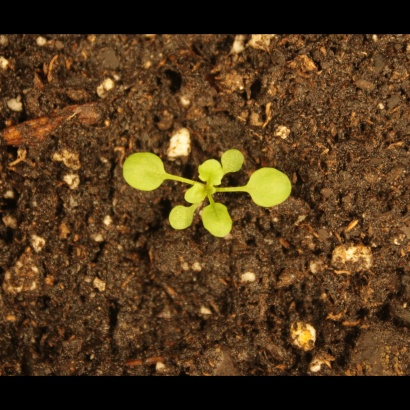leaf: (120, 147, 170, 195), (247, 166, 294, 211), (199, 202, 236, 239), (196, 156, 229, 190), (162, 203, 199, 233), (218, 144, 247, 176), (184, 182, 210, 206)
